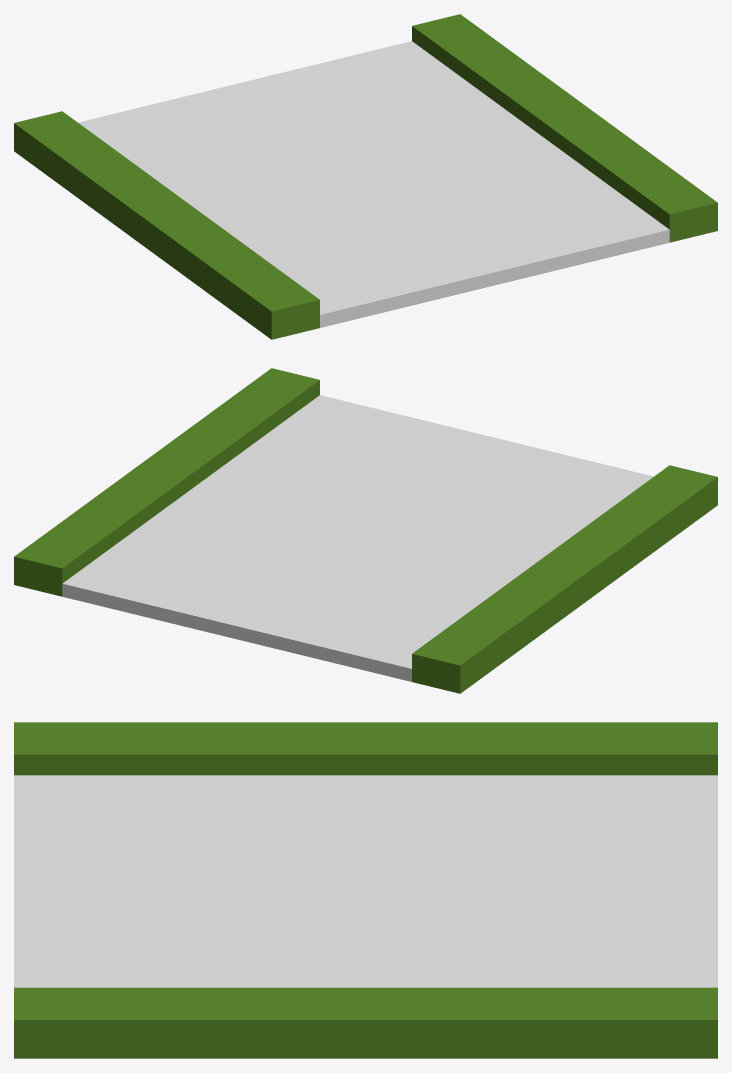
File: CaseGraphEau.dae
3 renders of one model, top to bottom at view 1: azimuth 30°, elevation 25°; view 2: azimuth 150°, elevation 25°; view 3: azimuth 270°, elevation 25°, orthographic. The views are drawn at different scales.
Visible parts, largest first — view 1: Cube; view 2: Cube; view 3: Cube.
Part boxes in pixels (<box>): Cube: <box>14,14,717,339</box>; Cube: <box>14,368,717,693</box>; Cube: <box>14,722,717,1058</box>.
Size of the model in its own units: 5.92 by 5.92 by 0.3581.
